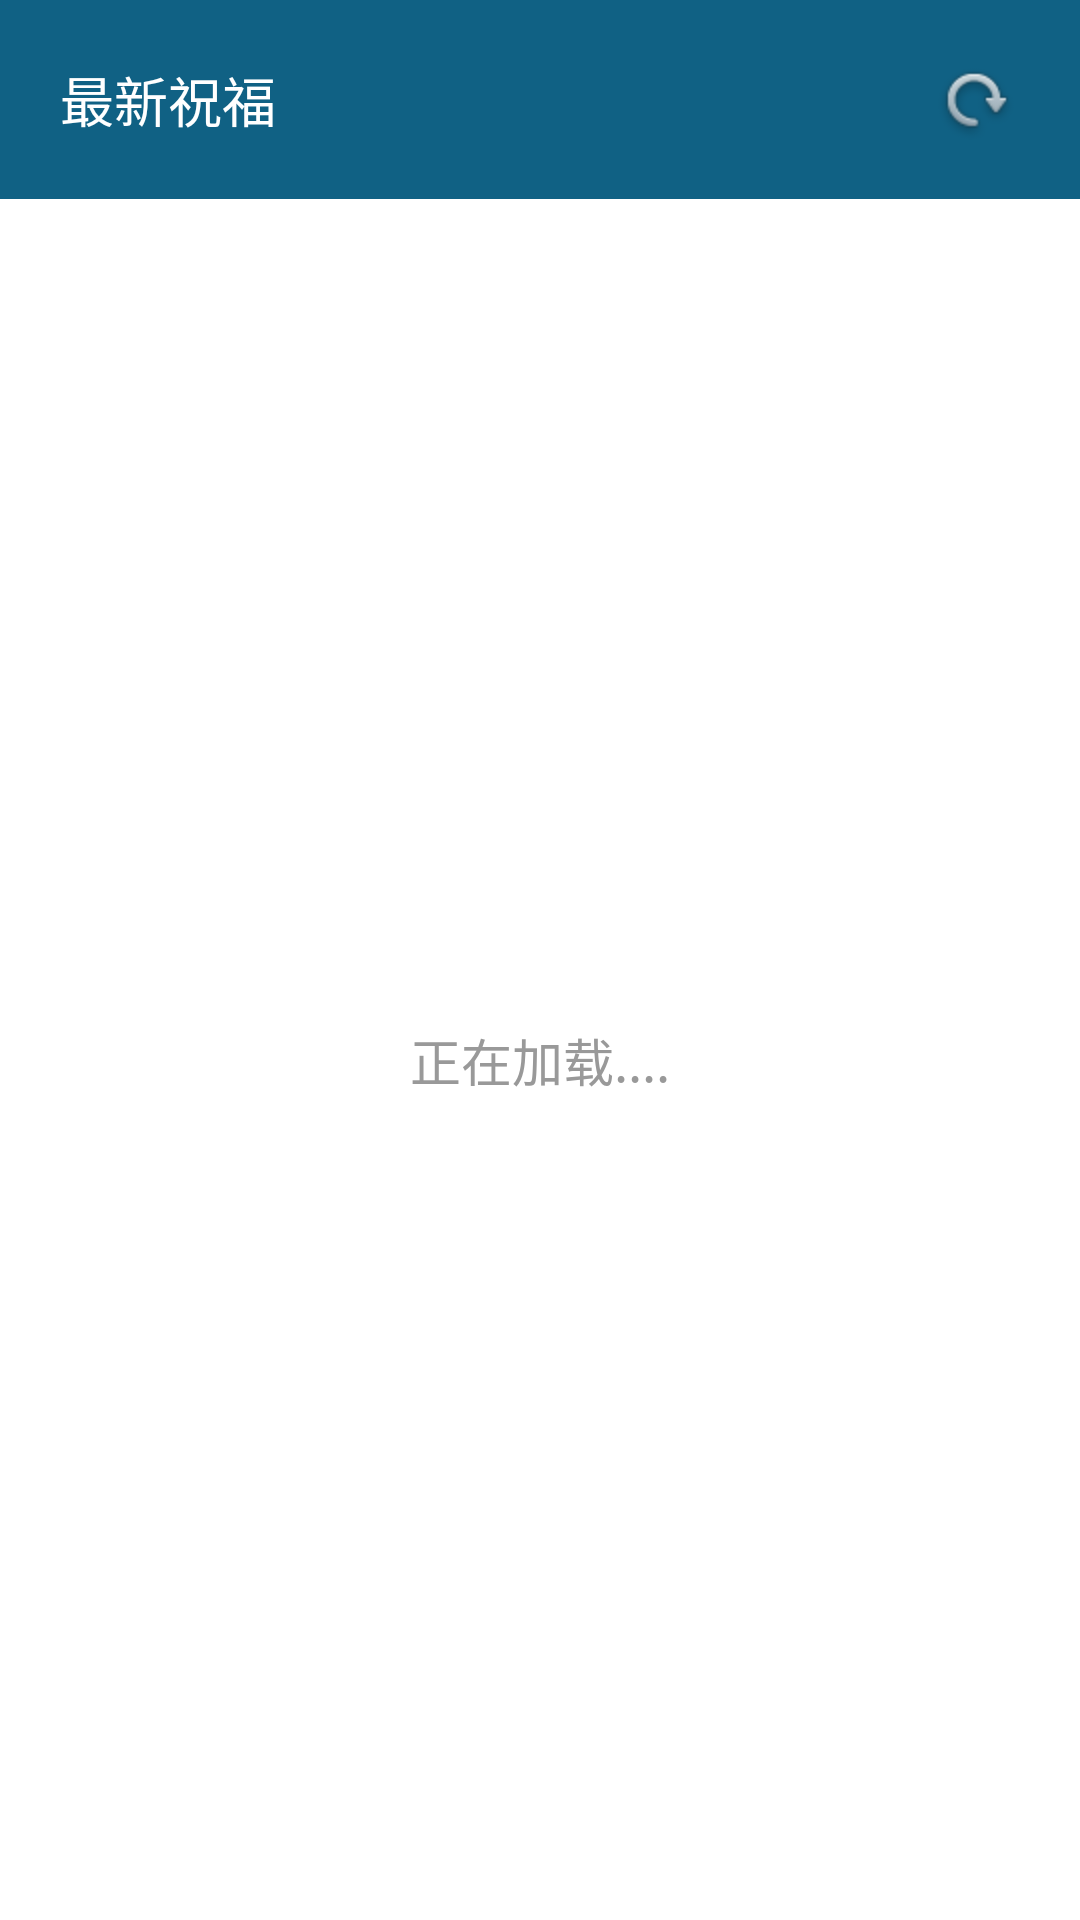

Point at icon controls on the screen. Image size 1080w x 1920h, points as (x=x, y=y).
zebra rotate: (x=976, y=100)
